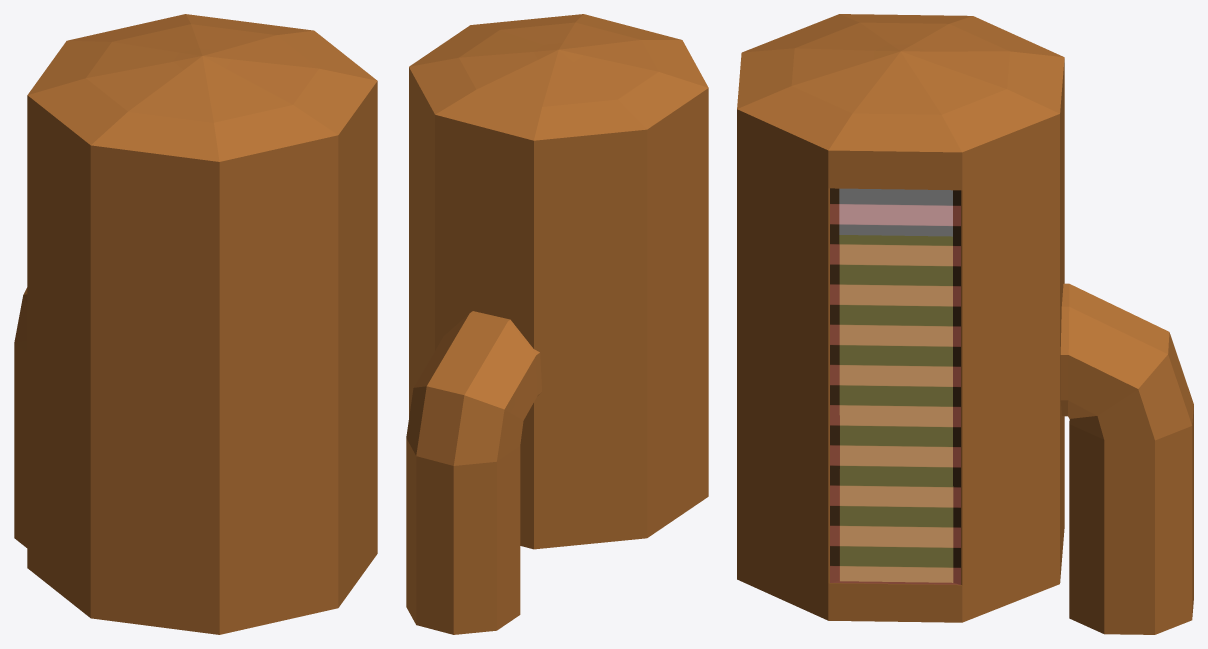
File: VAT170.glb
3 views of the same model, side by side, from view 1: azimuth 30°, elevation 25°; view 2: azimuth 150°, elevation 25°; view 3: azimuth 270°, elevation 25° (orthographic). The views are drawn at different scales.
Parts seen in each view (by area): view 1: Cylinder, Cylinder.001; view 2: Cylinder, Cylinder.001; view 3: Cylinder, glass, liquidHeight, Cylinder.001.
Boxes of the visible parts, <box> form: Cylinder: <box>27,14,377,634</box>; Cylinder.001: <box>14,287,27,547</box>; Cylinder: <box>409,14,708,549</box>; Cylinder.001: <box>406,311,541,634</box>; Cylinder: <box>737,14,1064,622</box>; glass: <box>830,188,960,584</box>; liquidHeight: <box>839,189,952,582</box>; Cylinder.001: <box>1060,283,1193,634</box>.
Bounding box in the file's own units: 1.82 × 3.44 × 2.54.
4 materials, 1 textured.
